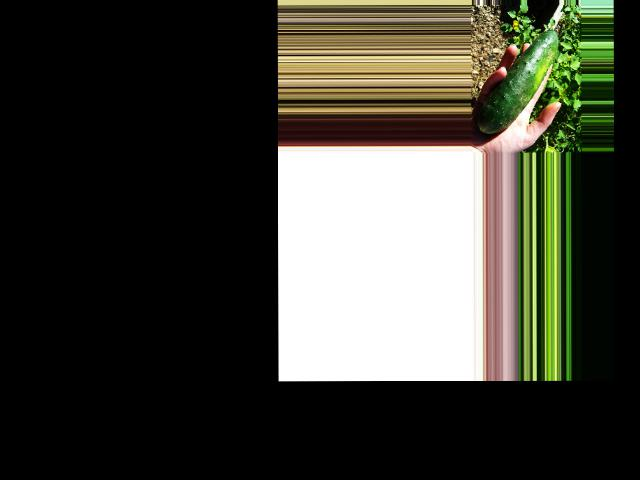cucumber: (478, 29, 558, 133)
